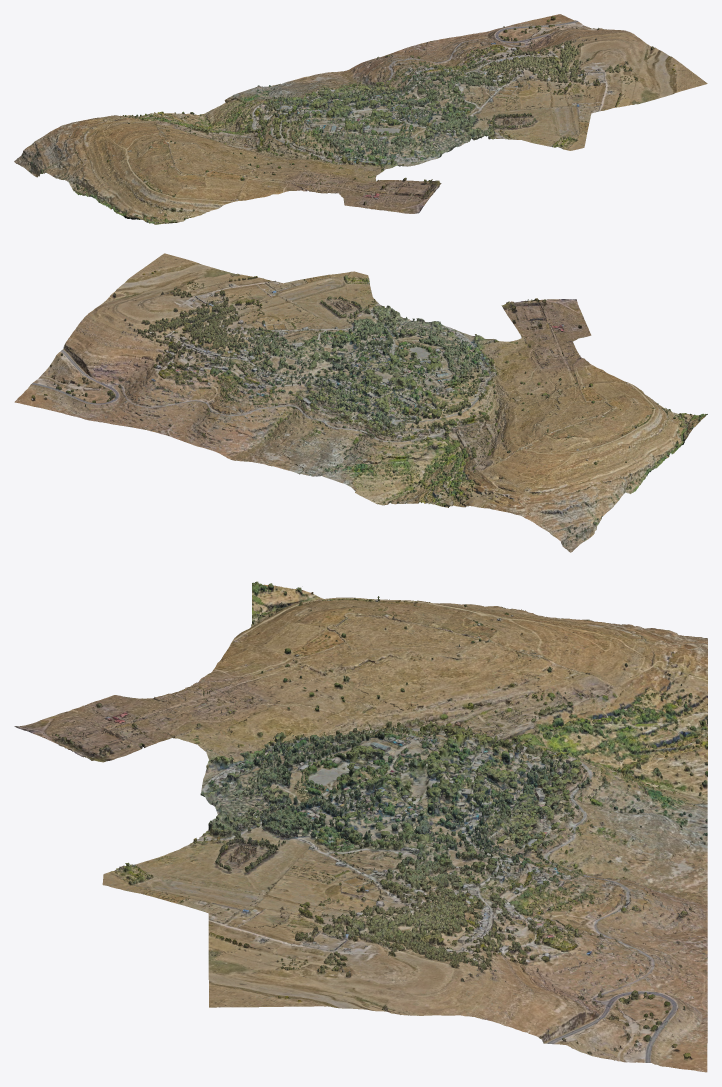
3 views of the same model, one above another, from view 1: azimuth 30°, elevation 25°; view 2: azimuth 150°, elevation 25°; view 3: azimuth 270°, elevation 25° (orthographic). The views are drawn at different scales.
Parts seen in each view (by area): view 1: LBY_001_M1_CyreneGeneral; view 2: LBY_001_M1_CyreneGeneral; view 3: LBY_001_M1_CyreneGeneral.
Boxes of the visible parts, x1,y1,x2,y2 form: LBY_001_M1_CyreneGeneral: [14, 14, 707, 224]; LBY_001_M1_CyreneGeneral: [14, 253, 707, 552]; LBY_001_M1_CyreneGeneral: [14, 581, 707, 1072].
Bounding box in the file's own units: 1996 × 201 × 1300.
Materials: 1 (1 with a texture image).
